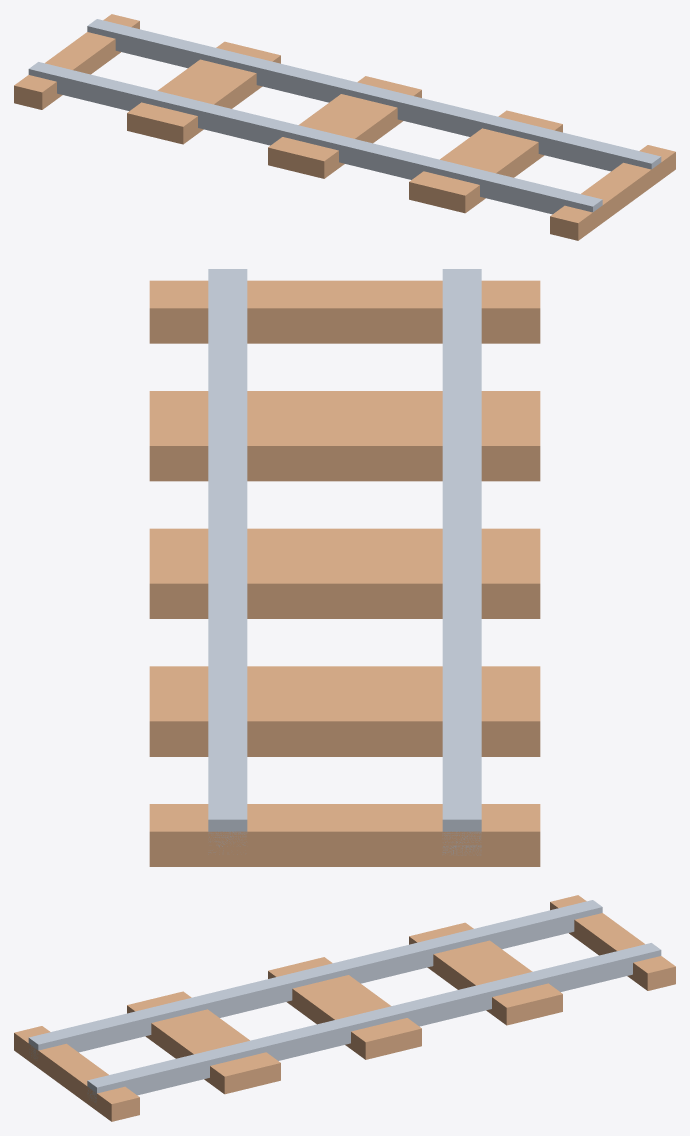
File: straight_1-2-3-4.dae
3 renders of one model, top to bottom at view 1: azimuth 30°, elevation 25°; view 2: azimuth 150°, elevation 25°; view 3: azimuth 270°, elevation 25°, orthographic. The views are drawn at different scales.
Visible parts, largest first — view 1: Rails Straight, Beats Straight 01; view 2: Beats Straight 01, Rails Straight; view 3: Rails Straight, Beats Straight 01.
Part boxes in pixels (x1,y1,x2,y2): Rails Straight: [28, 19, 661, 214]; Beats Straight 01: [14, 14, 675, 240]; Beats Straight 01: [149, 280, 540, 866]; Rails Straight: [208, 269, 481, 855]; Rails Straight: [28, 900, 661, 1104]; Beats Straight 01: [14, 895, 675, 1121].
Bounding box in the file's own units: 0.7598 × 1.02 × 0.04.
